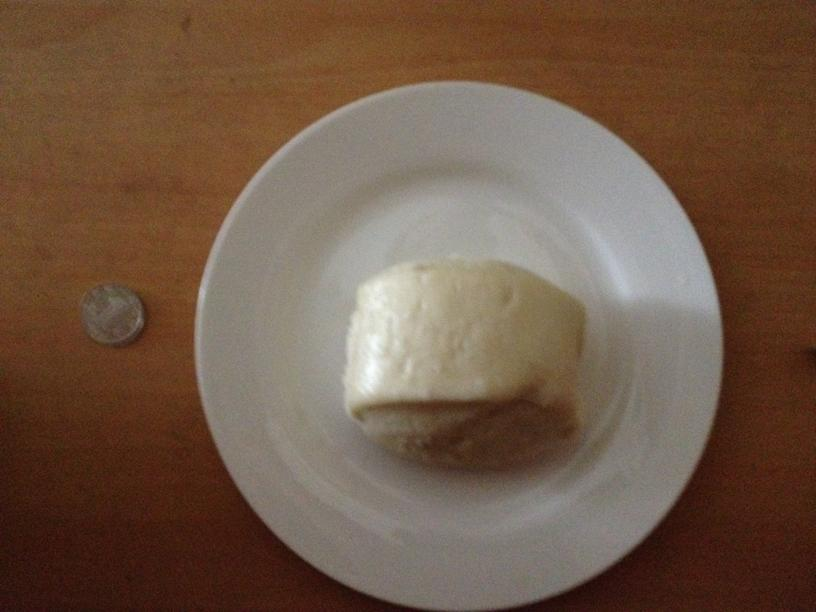bun: (335, 264, 590, 465)
coin: (75, 284, 146, 348)
